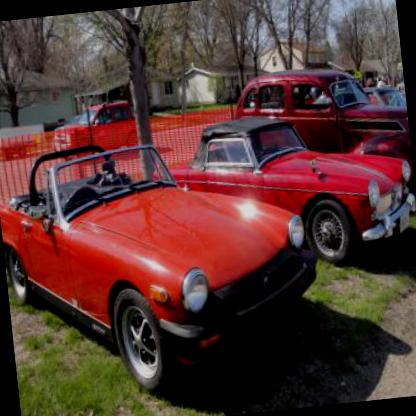car: (0, 117, 338, 415), (140, 95, 415, 288), (221, 54, 414, 210), (310, 84, 410, 166), (50, 92, 144, 166), (358, 87, 408, 130)
